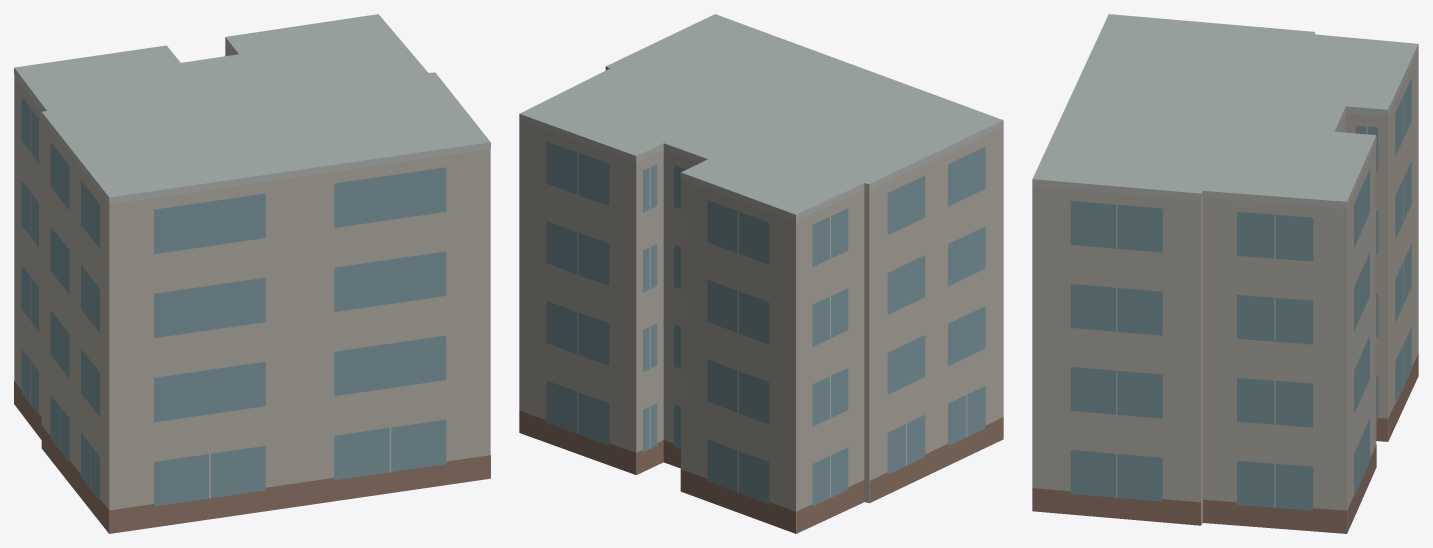
The model's file is survey-upis-32719377.glb.
3 renders of one model, left to right at view 1: azimuth 30°, elevation 25°; view 2: azimuth 150°, elevation 25°; view 3: azimuth 270°, elevation 25°, orthographic. The views are drawn at different scales.
Parts seen in each view (by area): view 1: survey-upis-32719377.tmp; view 2: survey-upis-32719377.tmp; view 3: survey-upis-32719377.tmp.
Part boxes in pixels (<box>): survey-upis-32719377.tmp: <box>14,14,490,533</box>; survey-upis-32719377.tmp: <box>519,14,1003,533</box>; survey-upis-32719377.tmp: <box>1032,14,1418,533</box>.
Size of the model in its own units: 14.75 by 12.15 by 12.82.
